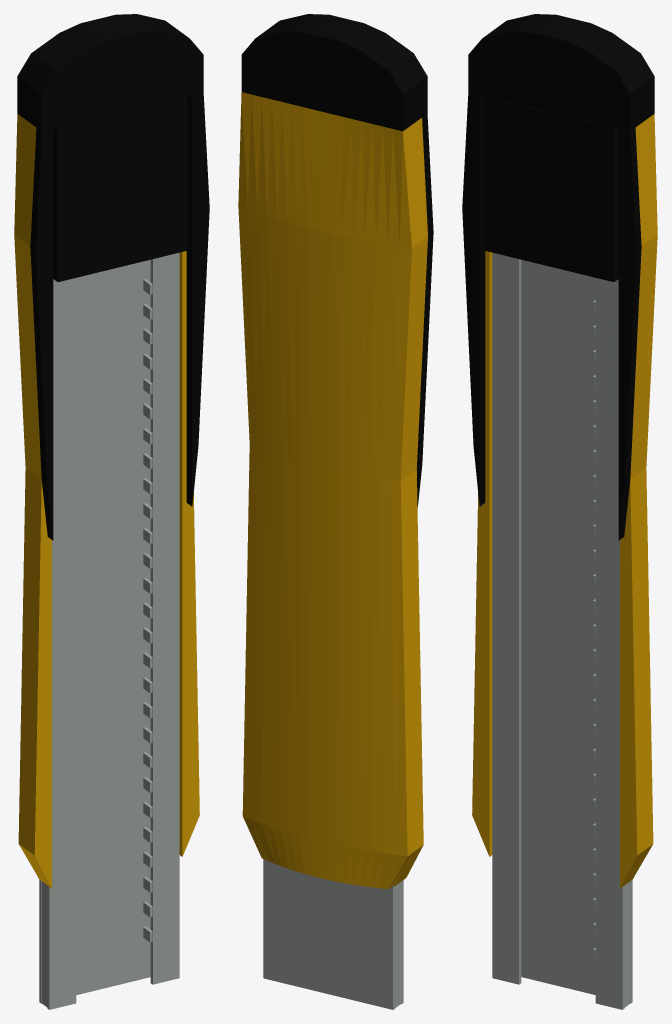
The model's file is fixed_root.obj.
3 views of the same model, side by side, from view 1: azimuth 30°, elevation 25°; view 2: azimuth 150°, elevation 25°; view 3: azimuth 330°, elevation 25° (orthographic).
Visible parts, largest first — view 1: guide_channel_floor, guide_top_flange_1, guide_top_flange_-1, rear_thumb_grip, removable_tail_cap, yellow_sidewall_-1, yellow_sidewall_1, black_side_grip_-1, black_side_grip_1, guide_folded_lip_1, guide_folded_lip_-1, body_lower_shell (+8 smaller); view 2: body_lower_shell, removable_tail_cap, guide_channel_floor, yellow_sidewall_-1, black_side_grip_-1, guide_folded_lip_-1; view 3: guide_channel_floor, guide_top_flange_-1, rear_thumb_grip, removable_tail_cap, yellow_sidewall_1, guide_top_flange_1, yellow_sidewall_-1, black_side_grip_1, black_side_grip_-1, guide_folded_lip_1, guide_folded_lip_-1, body_lower_shell (+8 smaller).
Boxes of the visible parts, x1,y1,x2,y2 form: guide_channel_floor: [39, 259, 150, 1003]; guide_top_flange_1: [150, 252, 179, 984]; guide_top_flange_-1: [47, 278, 76, 1009]; rear_thumb_grip: [53, 96, 187, 281]; removable_tail_cap: [17, 14, 203, 131]; yellow_sidewall_-1: [17, 118, 51, 888]; yellow_sidewall_1: [179, 251, 199, 856]; black_side_grip_-1: [30, 128, 53, 540]; black_side_grip_1: [186, 92, 209, 506]; guide_folded_lip_1: [171, 253, 178, 977]; guide_folded_lip_-1: [42, 280, 57, 1007]; body_lower_shell: [14, 114, 35, 872]; body_lower_shell: [238, 92, 414, 889]; removable_tail_cap: [241, 14, 427, 131]; guide_channel_floor: [263, 859, 395, 1009]; yellow_sidewall_-1: [393, 118, 427, 886]; black_side_grip_-1: [416, 113, 433, 506]; guide_folded_lip_-1: [395, 881, 402, 1007]; guide_channel_floor: [521, 259, 632, 1003]; guide_top_flange_-1: [492, 252, 521, 984]; rear_thumb_grip: [484, 96, 618, 281]; removable_tail_cap: [468, 14, 654, 131]; yellow_sidewall_1: [620, 118, 654, 888]; guide_top_flange_1: [595, 278, 624, 1009]; yellow_sidewall_-1: [472, 251, 492, 856]; black_side_grip_1: [618, 128, 641, 540]; black_side_grip_-1: [462, 92, 485, 506]; guide_folded_lip_1: [614, 279, 629, 1007]; guide_folded_lip_-1: [493, 253, 500, 977]; body_lower_shell: [636, 114, 657, 872].
Size of the model in its own units: 0.17 by 0.9 by 0.047.
